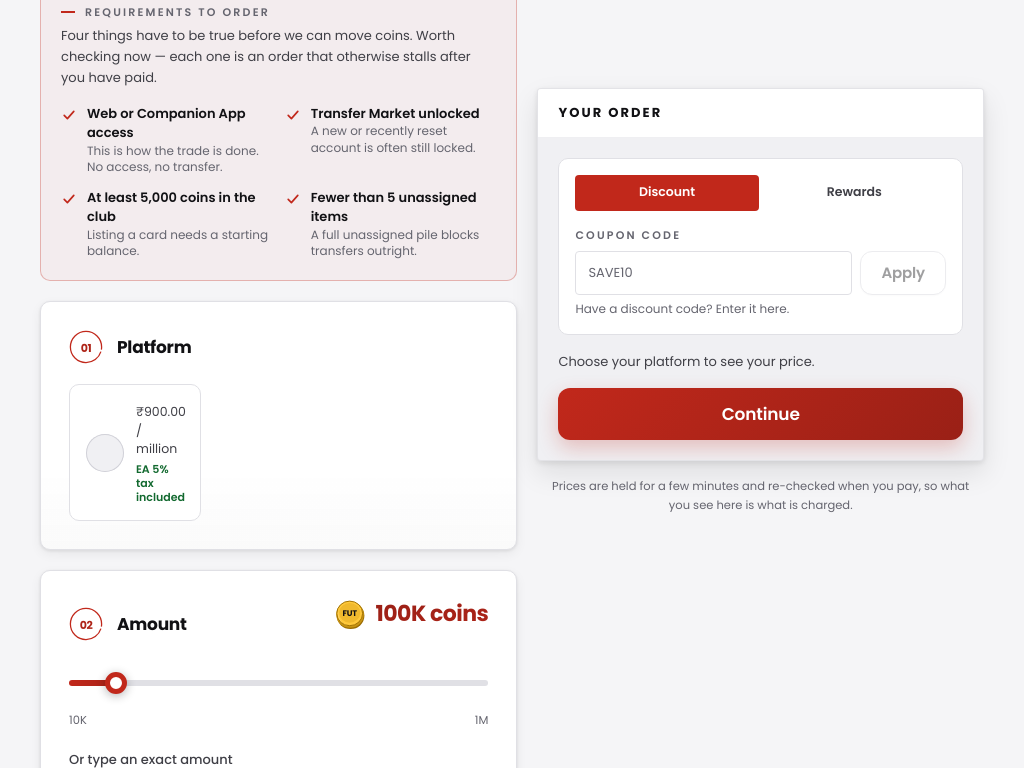
Test: Coin order page › shows a plain message when a quote fails without one
(page scrolled)
Click the button "₹900.00 / million EA 5% tax included". click: (135, 453)
box: x1=69 y1=384 x2=201 y2=522
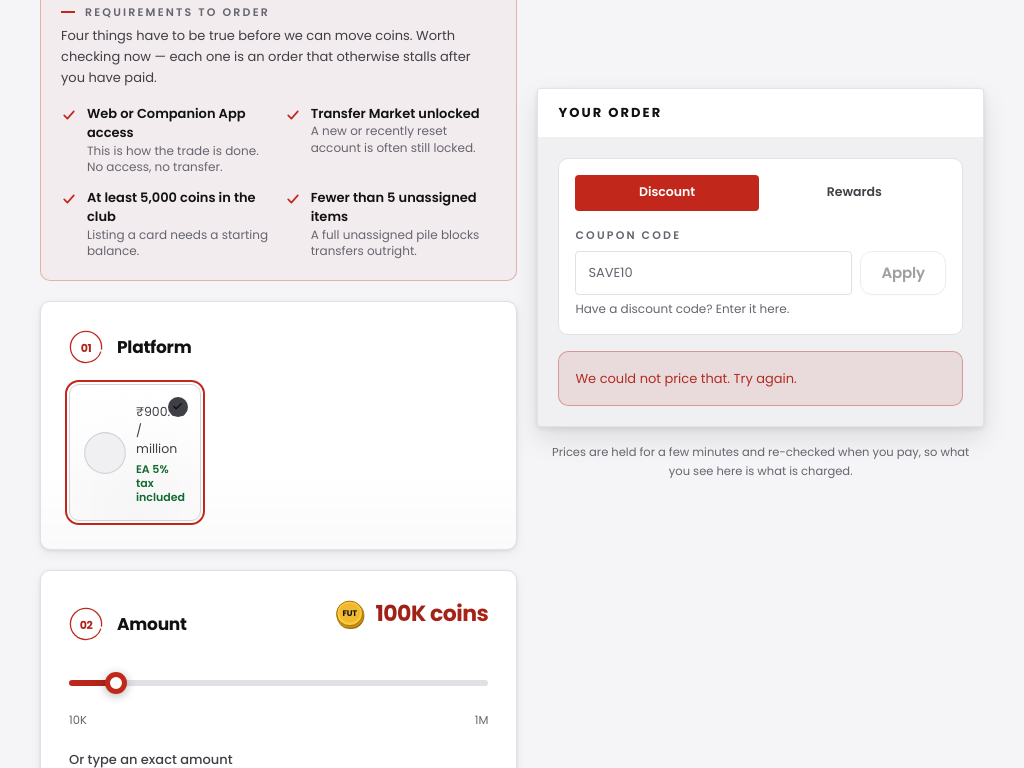
Check: the text "We could not price that. Try again." is shown, box x1=575 y1=368 x2=797 y2=388
